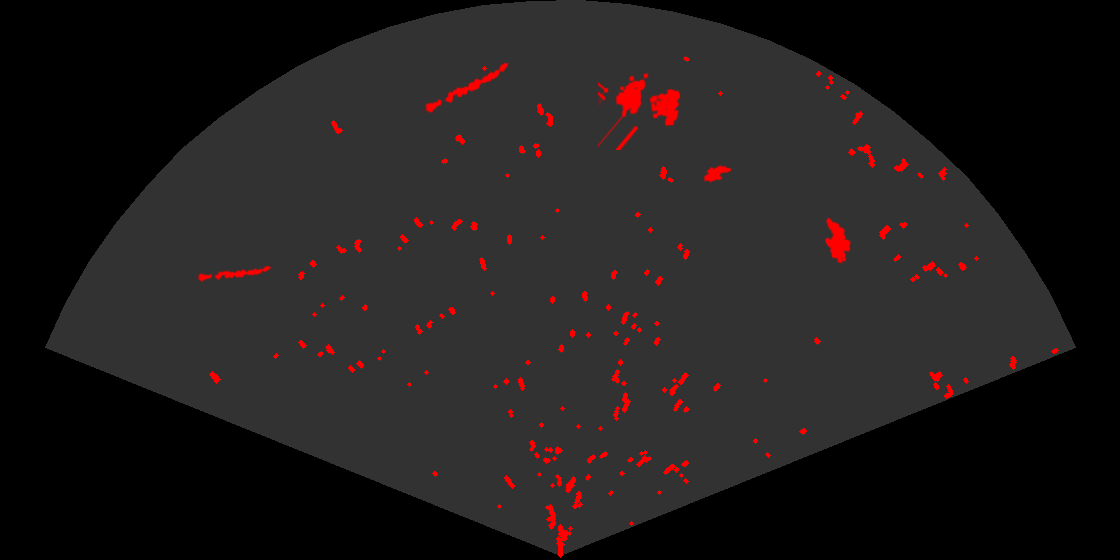AUV: (823, 216, 853, 265), (702, 162, 733, 184)
cage: (598, 71, 682, 150)
chain: (420, 61, 510, 115), (196, 264, 272, 284)
